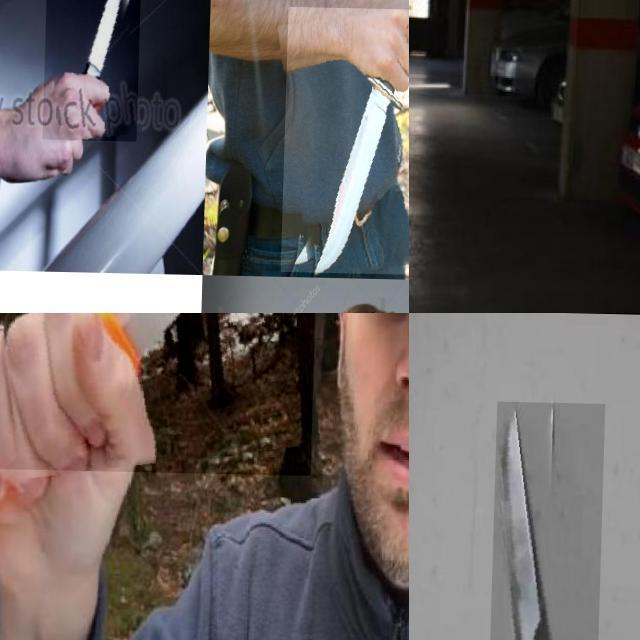-: (0, 313, 320, 474), (282, 4, 409, 273), (485, 400, 605, 640), (43, 0, 141, 140), (409, 88, 433, 205)
